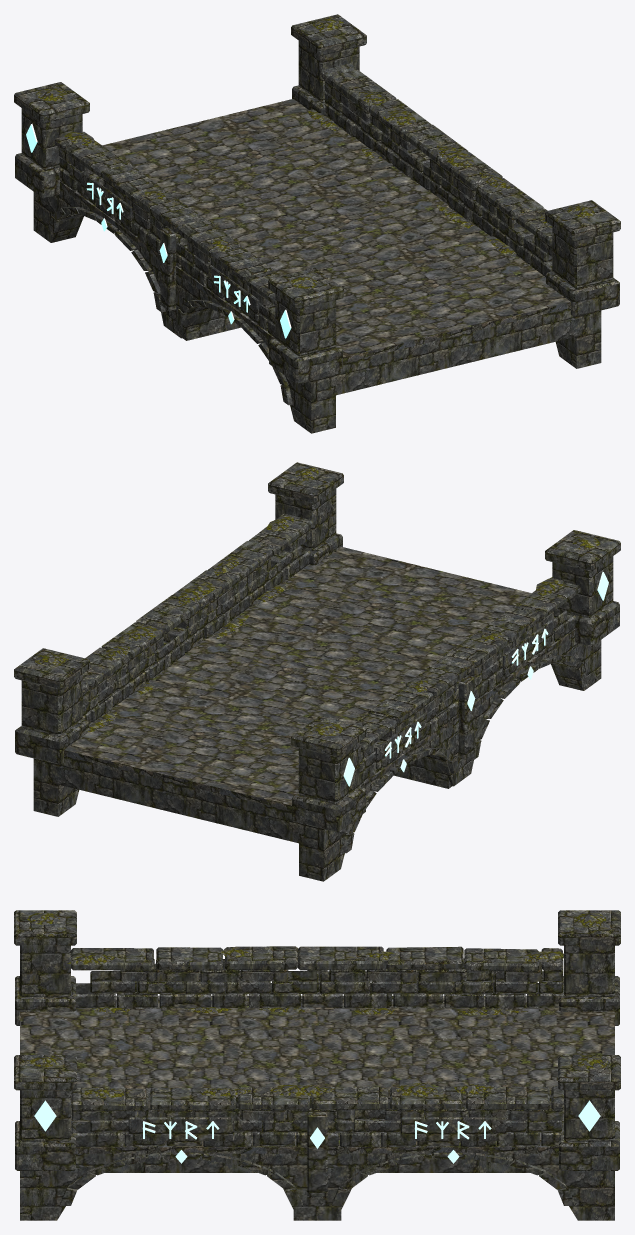
The model's file is bridge-stone.glb.
The picture shows the model from 3 angles, top to bottom: view 1: azimuth 30°, elevation 25°; view 2: azimuth 150°, elevation 25°; view 3: azimuth 270°, elevation 25°; orthographic projection. The views are drawn at different scales.
Parts seen in each view (by area): view 1: deck, wall_1, body_mid, cap_-1, cap_1, body_-1, wall_-1, moss, pier_shaft_1_-1, pier_shaft_-1_-1, pier_base_-1_-1, pier_shaft_-1_1 (+14 smaller); view 2: deck, wall_1, body_mid, cap_-1, body_-1, cap_1, moss, wall_-1, pier_shaft_1_1, pier_shaft_-1_1, pier_shaft_-1_-1, pier_base_-1_1 (+15 smaller); view 3: deck, wall_-1, wall_1, cap_-1, body_1, cap_1, moss, body_mid, pier_shaft_-1_1, pier_shaft_-1_-1, pier_shaft_1_1, pier_shaft_1_-1 (+13 smaller).
Boxes of the visible parts, box(x1,y1,x2,y2) form: deck: box(60, 99, 570, 363); wall_1: box(324, 81, 552, 276); body_mid: box(336, 308, 576, 395); cap_-1: box(55, 131, 280, 304); cap_1: box(321, 63, 552, 246); body_-1: box(33, 187, 335, 433); wall_-1: box(58, 147, 275, 337); moss: box(34, 17, 594, 288); pier_shaft_1_-1: box(552, 226, 613, 288); pier_shaft_-1_-1: box(275, 294, 336, 356); pier_base_-1_-1: box(269, 339, 342, 384); pier_shaft_-1_1: box(21, 108, 82, 170); deck: box(64, 547, 574, 811); wall_1: box(82, 529, 310, 724); body_mid: box(58, 756, 298, 843); cap_-1: box(354, 581, 580, 752); body_-1: box(299, 635, 601, 881); cap_1: box(82, 513, 313, 693); moss: box(35, 467, 600, 735); wall_-1: box(359, 608, 575, 785); pier_shaft_1_1: box(21, 674, 82, 736); pier_shaft_-1_1: box(298, 742, 359, 804); pier_shaft_-1_-1: box(552, 556, 613, 618); pier_base_-1_1: box(292, 787, 365, 832); deck: box(20, 995, 614, 1153); wall_-1: box(71, 958, 563, 1008); wall_1: box(71, 1097, 563, 1146); cap_-1: box(71, 946, 562, 971); body_1: box(20, 1153, 614, 1220); cap_1: box(71, 1086, 563, 1111); moss: box(25, 912, 607, 1098); body_mid: box(105, 1157, 529, 1172); pier_shaft_-1_1: box(564, 945, 614, 996); pier_shaft_-1_-1: box(20, 945, 70, 996); pier_shaft_1_1: box(564, 1090, 614, 1141); pier_shaft_1_-1: box(20, 1090, 70, 1141).
Bounding box in the file's own units: 4.74 × 2.09 × 7.14.
4 materials, 3 textured.
